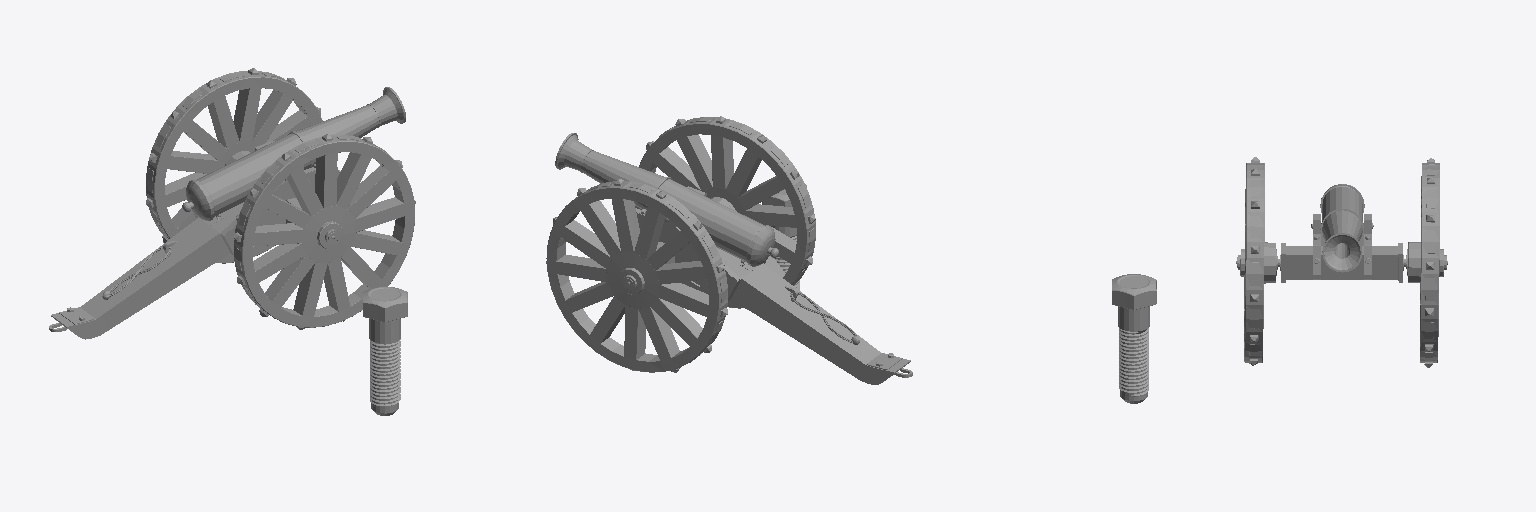
Rendered from kanone.obj.
The picture shows the model from 3 angles: view 1: azimuth 30°, elevation 25°; view 2: azimuth 150°, elevation 25°; view 3: azimuth 270°, elevation 25°; orthographic projection.
Visible parts, largest first — view 1: polySurface21_group1; view 2: polySurface21_group1; view 3: polySurface21_group1.
Part boxes in pixels (left/top/right/bottom): polySurface21_group1: left=49, top=68, right=415, bottom=415; polySurface21_group1: left=546, top=116, right=912, bottom=384; polySurface21_group1: left=1112, top=157, right=1447, bottom=403.
Size of the model in its own units: 12.83 by 8.15 by 10.72.